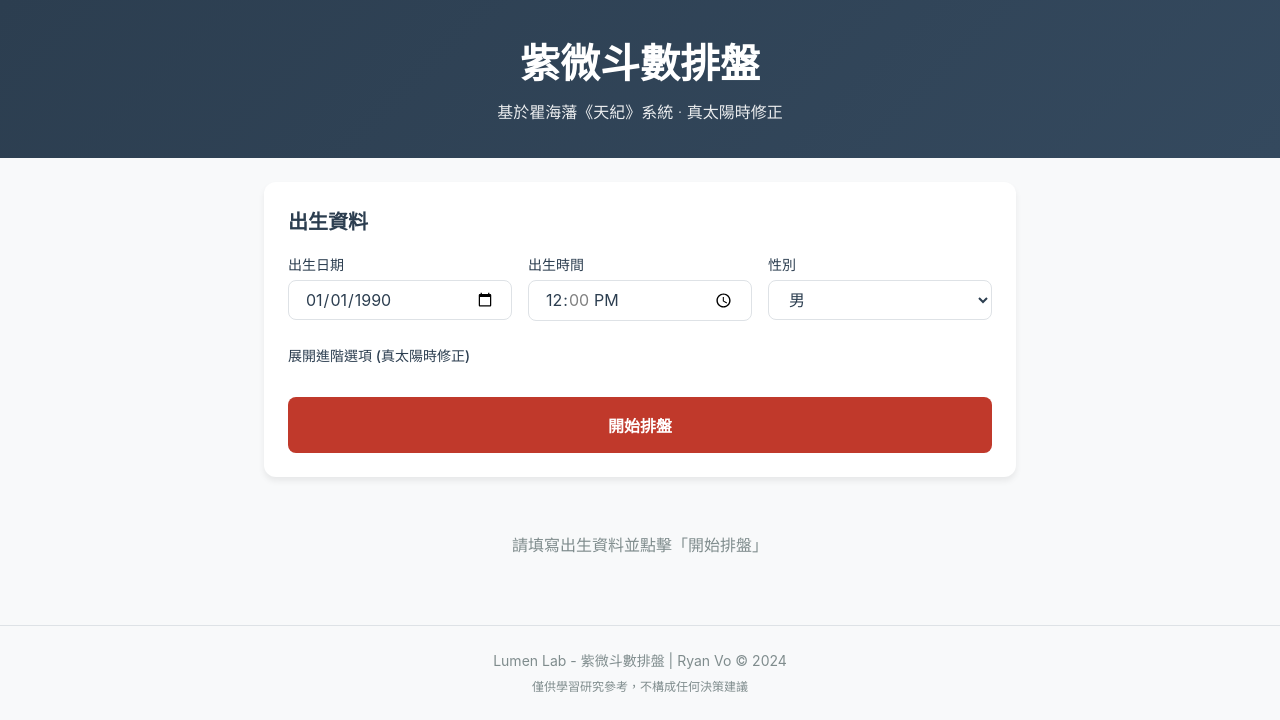
it: ChartForm › displays error on API failure
Click the button "開始排盤".
click(640, 425)  # box [288,397,992,453]
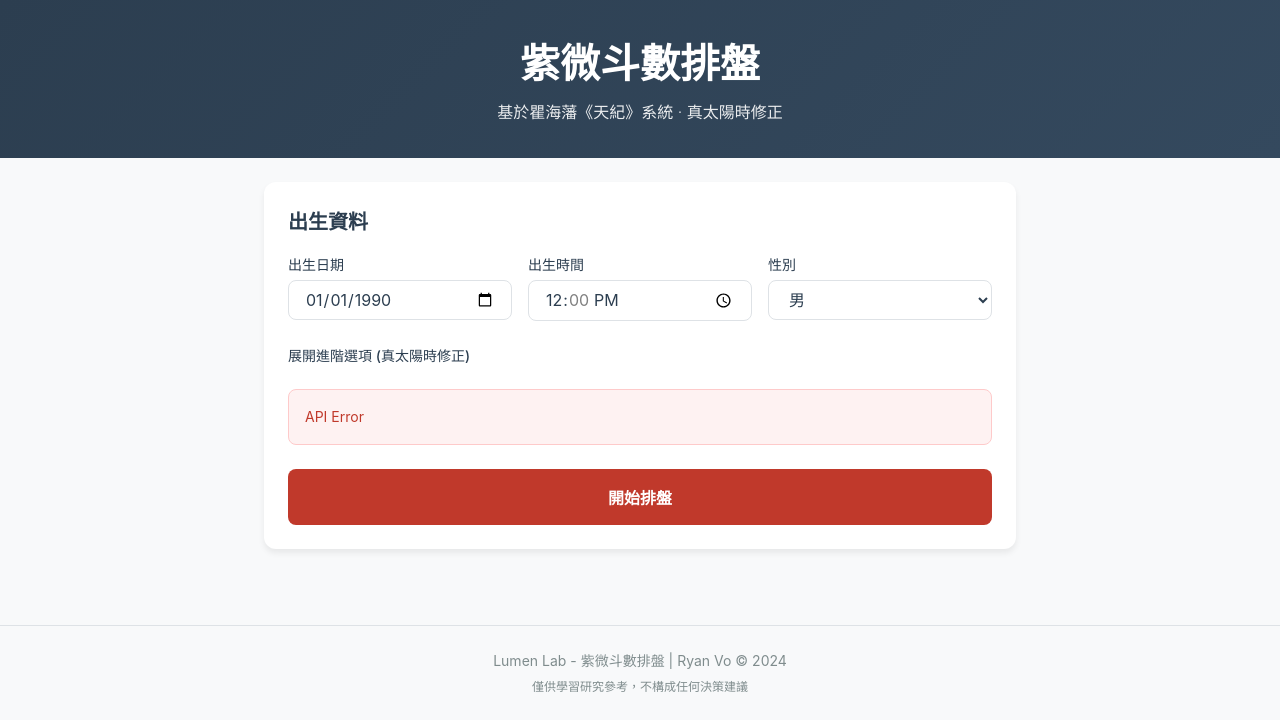
Expected: the text "API Error" is shown, [288,389,992,445]
